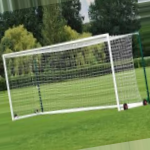goals: (1, 31, 146, 123)
